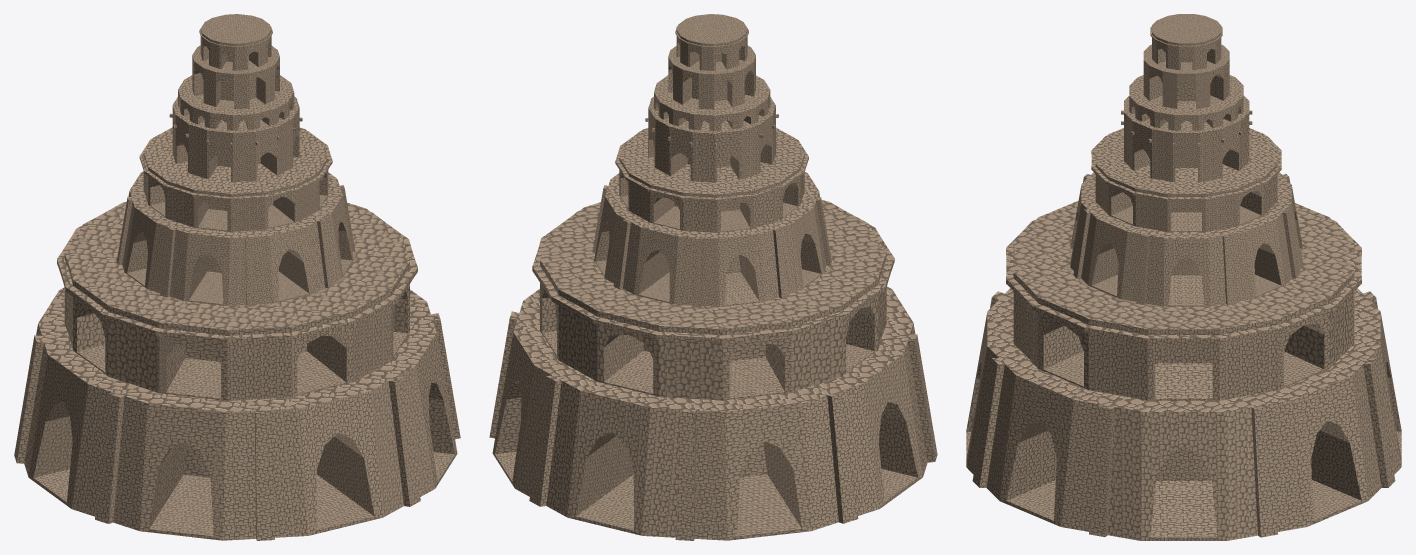
File: nonplaceholdertower_3.fbx
The picture shows the model from 3 angles, left to right: view 1: azimuth 30°, elevation 25°; view 2: azimuth 150°, elevation 25°; view 3: azimuth 270°, elevation 25°; orthographic projection.
Parts seen in each view (by area): view 1: Cylinder.001, Cylinder; view 2: Cylinder.001, Cylinder; view 3: Cylinder.001, Cylinder.
Boxes of the visible parts, x1,y1,x2,y2 form: Cylinder.001: [14, 202, 460, 540]; Cylinder: [117, 14, 355, 306]; Cylinder.001: [489, 200, 937, 540]; Cylinder: [592, 14, 831, 307]; Cylinder.001: [966, 200, 1401, 540]; Cylinder: [1070, 14, 1302, 306].
Bounding box in the file's own units: 6687 × 7123 × 6687.
